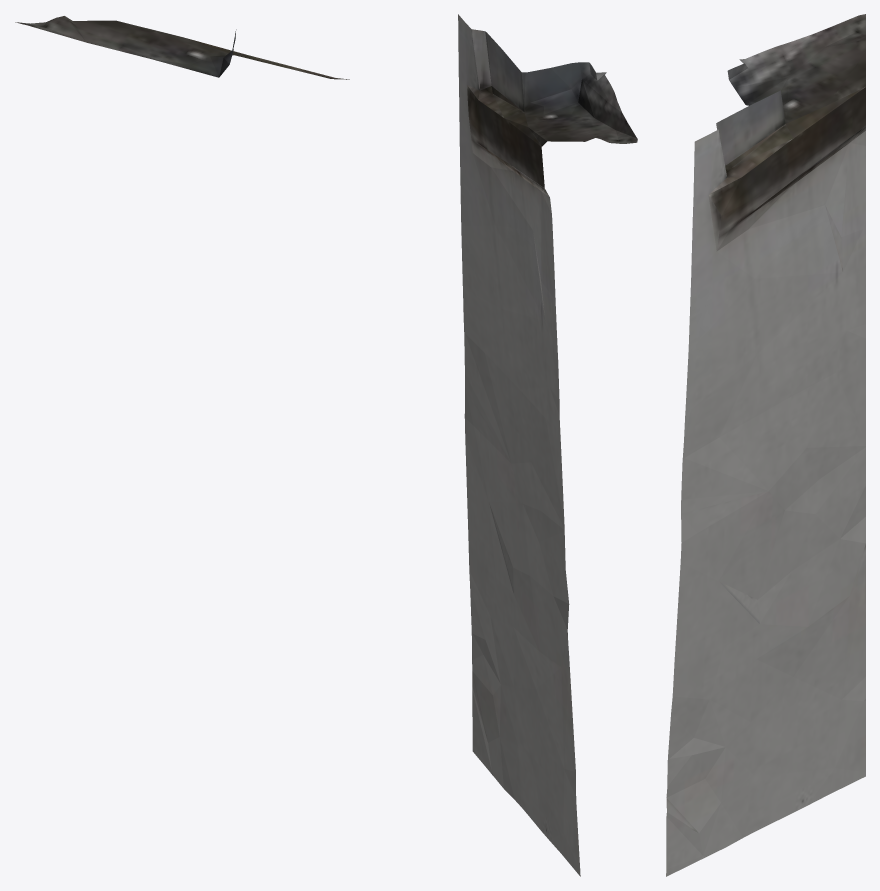
3 views of the same model, side by side, from view 1: azimuth 30°, elevation 25°; view 2: azimuth 150°, elevation 25°; view 3: azimuth 270°, elevation 25° (orthographic). The views are drawn at different scales.
Bounding box in the file's own units: 0.6238 × 1.67 × 0.4126.
Materials: 1 (1 with a texture image).
